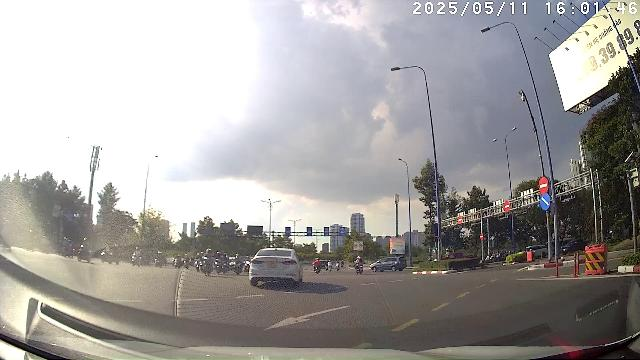102-cam-di-nguoc-chieu: (538, 177, 549, 194), (504, 201, 510, 212)
302a-huong-phai-di-vong-chuong-ngai-vat-1: (540, 194, 550, 211)
